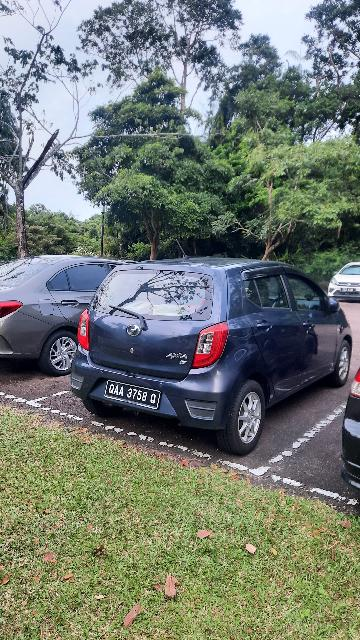License_Plate: (105, 376, 163, 414)
car: (68, 253, 358, 452), (2, 249, 169, 375)
